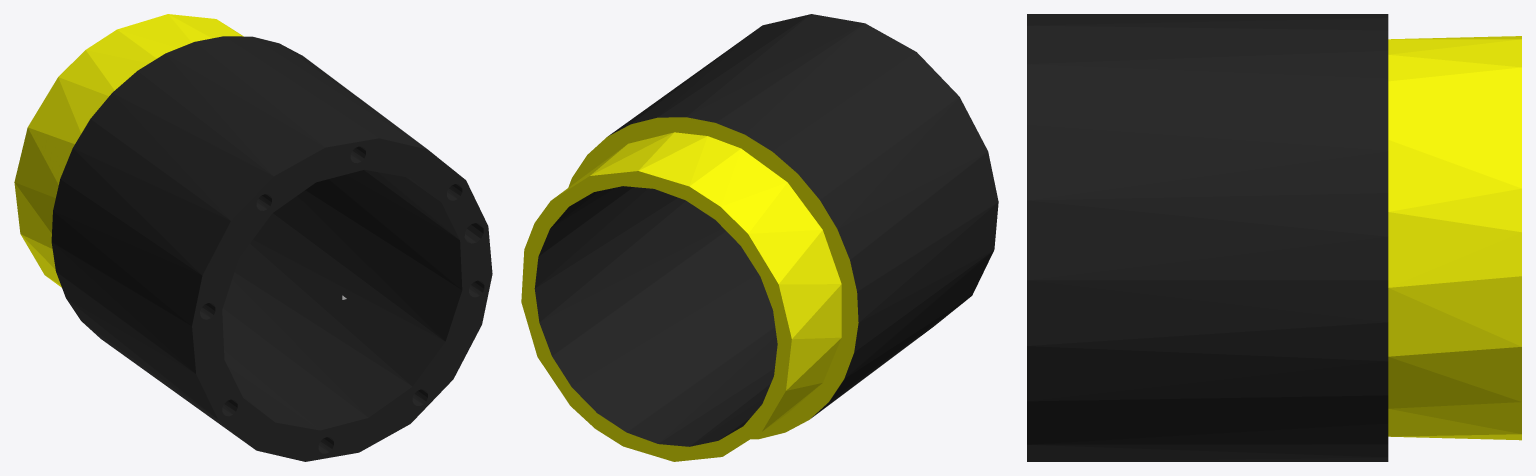
3 renders of one model, left to right at view 1: azimuth 30°, elevation 25°; view 2: azimuth 150°, elevation 25°; view 3: azimuth 270°, elevation 25°, orthographic. The views are drawn at different scales.
Visible parts, largest first — view 1: node; view 2: node; view 3: node.
Boxes of the visible parts, box(x1,y1,x2,y2) form: node: box(14, 14, 492, 461); node: box(521, 14, 998, 461); node: box(1027, 14, 1521, 461).
Size of the model in its own units: 61.92 by 61.92 by 68.5.
